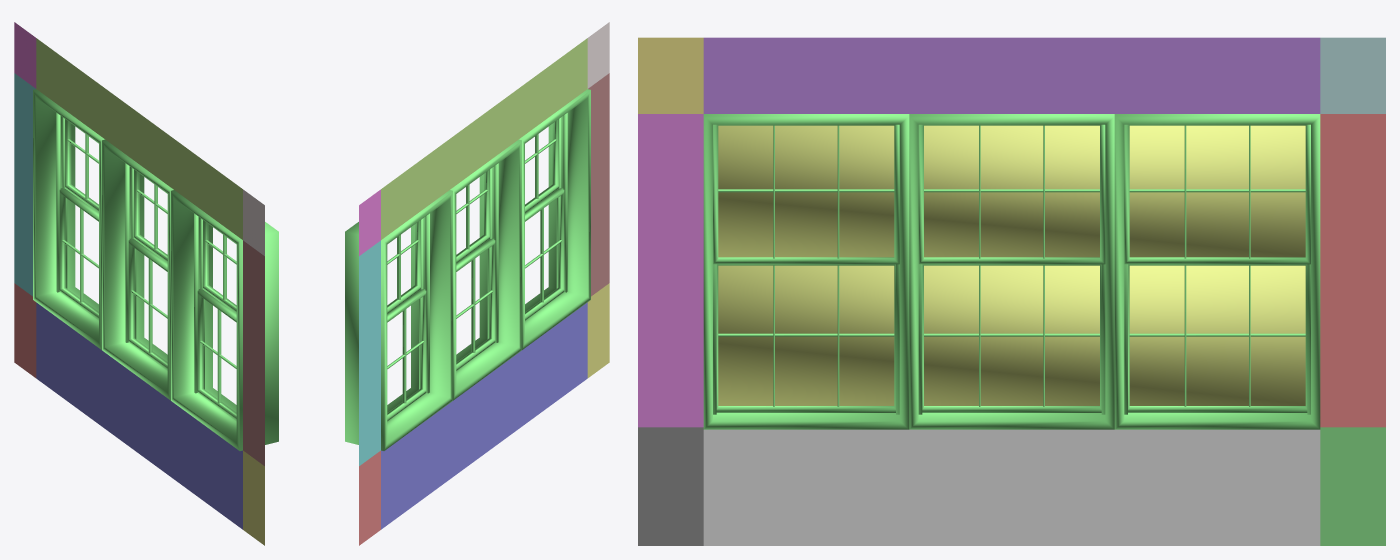
Rendered from SM_window_04.gltf.
3 views of the same model, side by side, from view 1: azimuth 30°, elevation 25°; view 2: azimuth 150°, elevation 25°; view 3: azimuth 270°, elevation 25° (orthographic). The views are drawn at different scales.
Visible parts, largest first — view 1: SM_window_04; view 2: SM_window_04; view 3: SM_window_04.
Boxes of the visible parts, left/top/right/bottom form: SM_window_04: left=14, top=22, right=278, bottom=545; SM_window_04: left=345, top=22, right=609, bottom=545; SM_window_04: left=638, top=37, right=1385, bottom=545.
Size of the model in its own units: 0.36 by 3 by 4.
